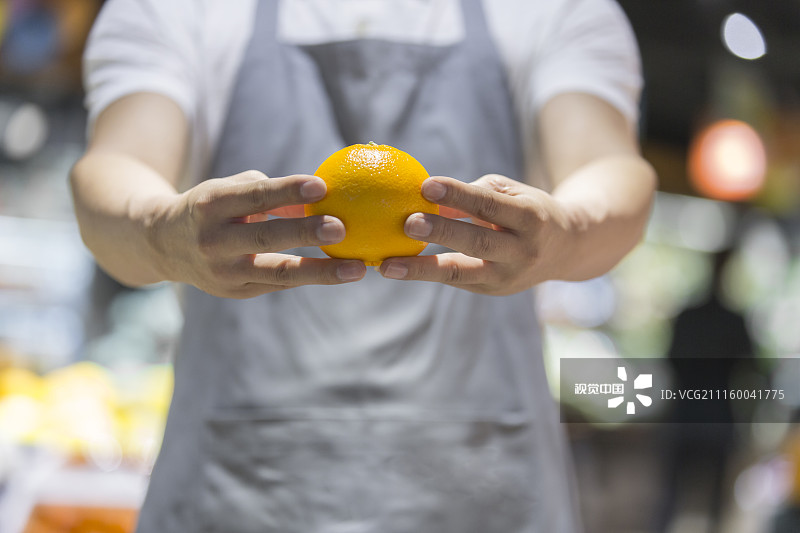no-phone: (142, 161, 371, 314), (376, 154, 574, 307)
